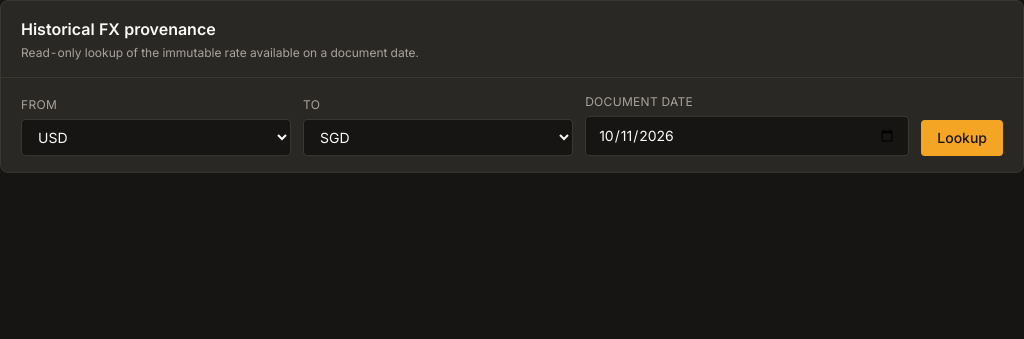
Test case: FxRatesInspectorComponent › looks up and renders historical USD to SGD immutable provenance
This screenshot has width=1024, height=339.
Select "USD" in the dropdown with id "fx-from-currency" at (156, 138), box [21,119,291,156]
Select "SGD" in the dropdown with id "fx-to-currency" at (438, 138), box [303,119,573,156]
Type "2026-05-31" into the date field with id "fx-rate-date" at (747, 136), box [585,116,909,156]
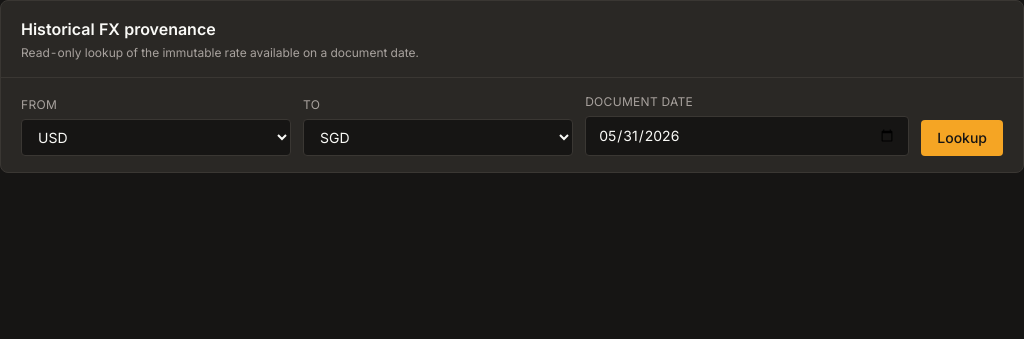
Click the button "Lookup" at (962, 138), box [921,120,1003,156]
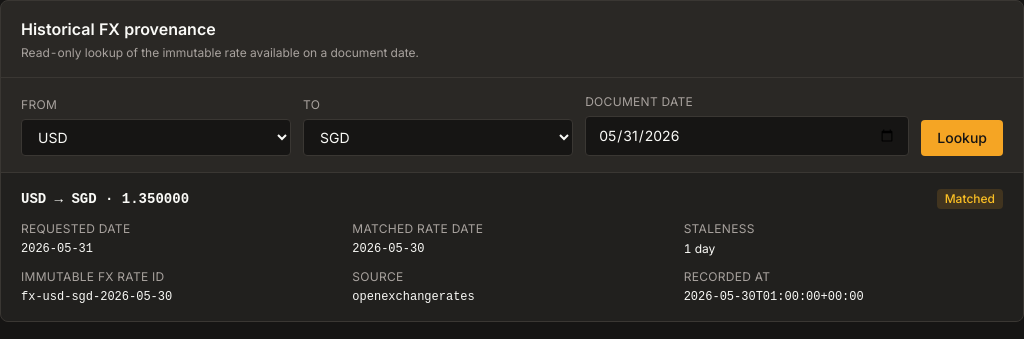
Now the element named "Matched FX rate provenance" is shown, box [1,172,1023,321]
Now the element named "Matched FX rate provenance" shows "USD → SGD", box [21,191,189,207]
Now the element named "Matched FX rate provenance" shows "1.350000", box [21,191,189,207]
